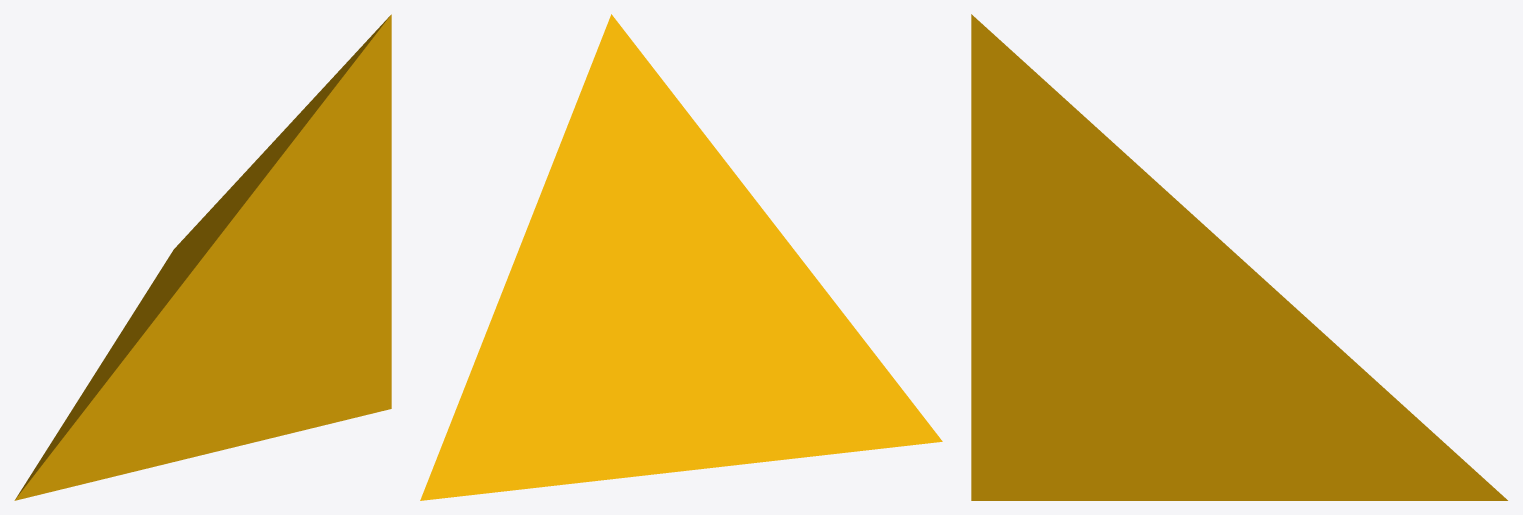
The picture shows the model from 3 angles, left to right: view 1: azimuth 30°, elevation 25°; view 2: azimuth 150°, elevation 25°; view 3: azimuth 270°, elevation 25°; orthographic projection. The views are drawn at different scales.
Parts seen in each view (by area): view 1: 0jb0pEKrn9bRwJU97_h61$; view 2: 0jb0pEKrn9bRwJU97_h61$; view 3: 0jb0pEKrn9bRwJU97_h61$.
Boxes of the visible parts, x1=… form: 0jb0pEKrn9bRwJU97_h61$: x1=14, y1=14, x2=391, y2=500; 0jb0pEKrn9bRwJU97_h61$: x1=420, y1=14, x2=942, y2=500; 0jb0pEKrn9bRwJU97_h61$: x1=971, y1=14, x2=1507, y2=500.
Size of the model in its own units: 1 by 1 by 1.
